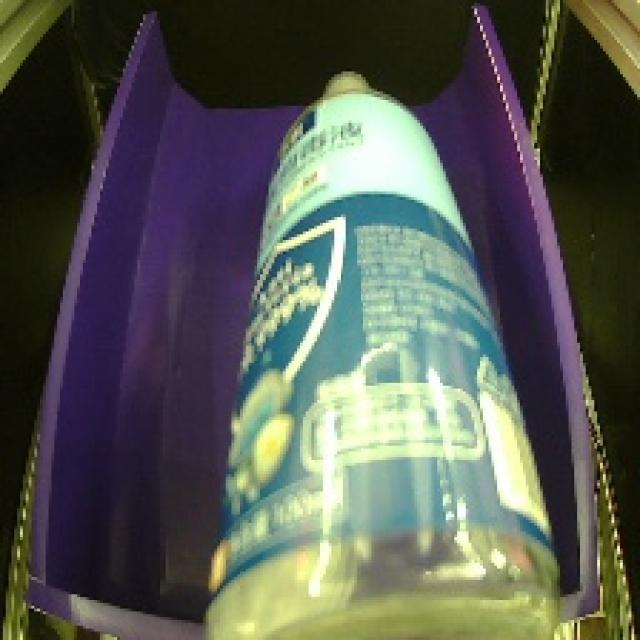plastic: (186, 49, 586, 640)
